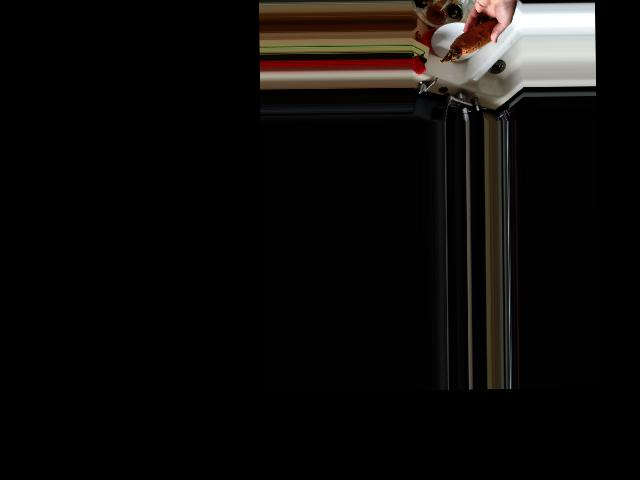sweet_potato: (438, 14, 503, 63)
